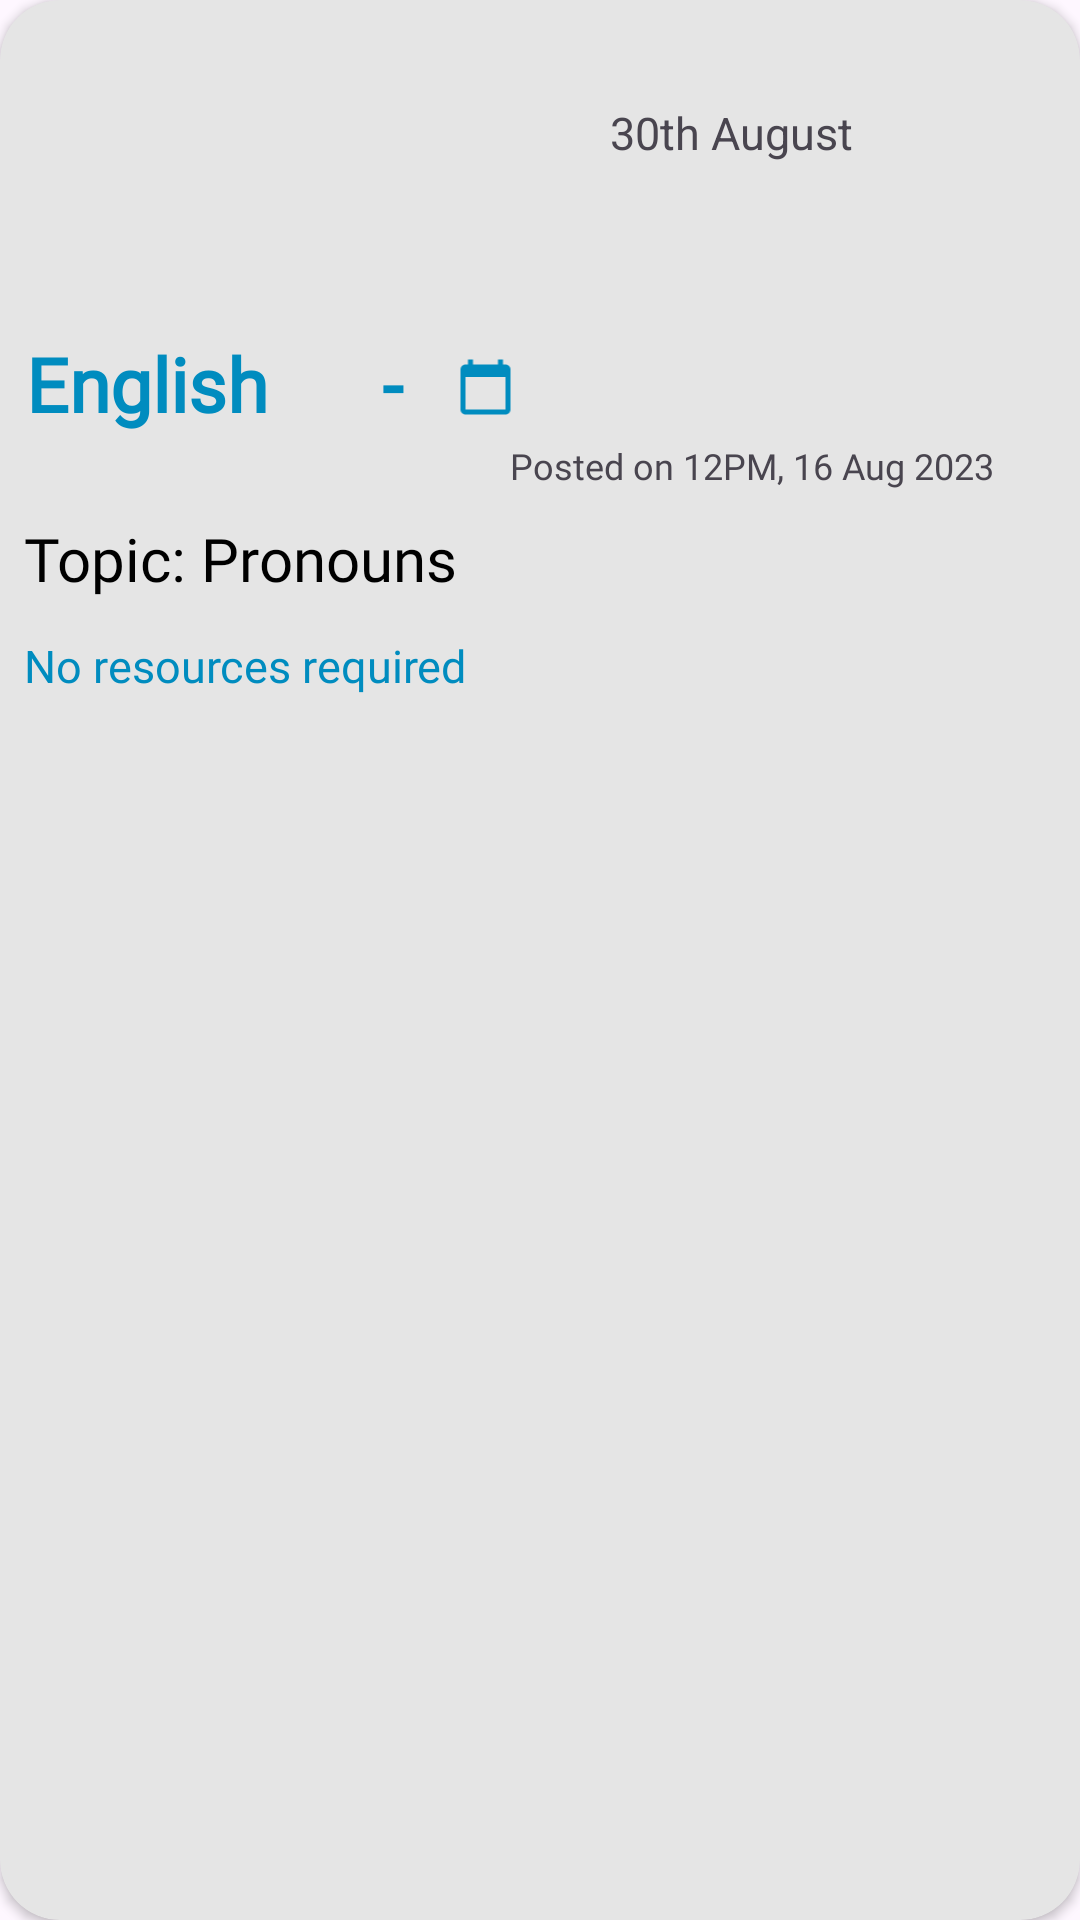

Named icons in this screenshot (1080 x 1920) and their bounding boxes, (x1, y1, x2, y2):
calendar: (460, 359, 511, 415)
